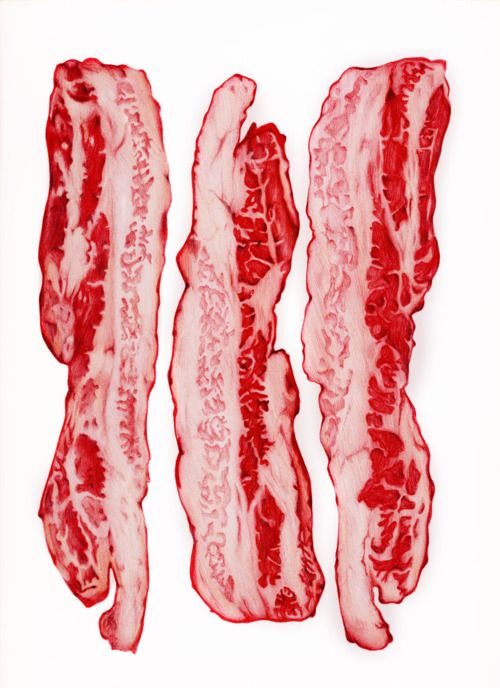bacon: (177, 80, 347, 621), (298, 54, 448, 642), (39, 43, 167, 637)
